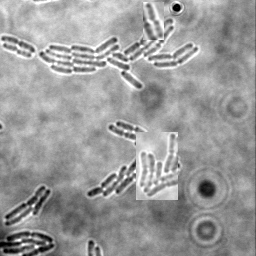Dividing: (143, 2, 164, 40), (1, 34, 37, 52), (3, 41, 33, 57)
Microcolony: (40, 18, 199, 89), (87, 120, 181, 197), (136, 132, 178, 200), (5, 184, 52, 226), (1, 230, 56, 255)
